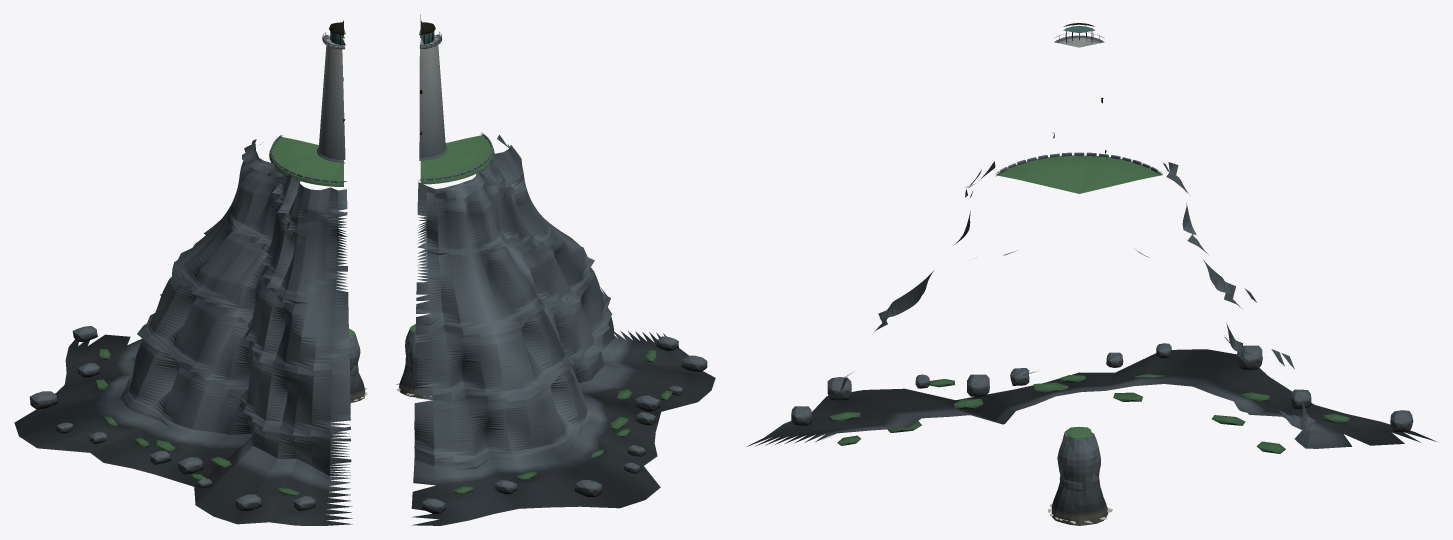
Rendered from coast-s2-DfPO7GUL.glb.
3 views of the same model, side by side, from view 1: azimuth 30°, elevation 25°; view 2: azimuth 150°, elevation 25°; view 3: azimuth 270°, elevation 25° (orthographic). The views are drawn at different scales.
Parts seen in each view (by area): view 1: sc_landmark_1, sc_stack_0; view 2: sc_landmark_1, sc_stack_0; view 3: sc_landmark_1, sc_stack_0.
Boxes of the visible parts, x1=… form: sc_landmark_1: x1=14, y1=20, x2=352, y2=525; sc_stack_0: x1=349, y1=328, x2=367, y2=402; sc_landmark_1: x1=411, y1=14, x2=715, y2=525; sc_stack_0: x1=396, y1=324, x2=431, y2=397; sc_landmark_1: x1=746, y1=23, x2=1437, y2=453; sc_stack_0: x1=1048, y1=426, x2=1112, y2=525.
Size of the model in its own units: 256 by 320 by 393.
